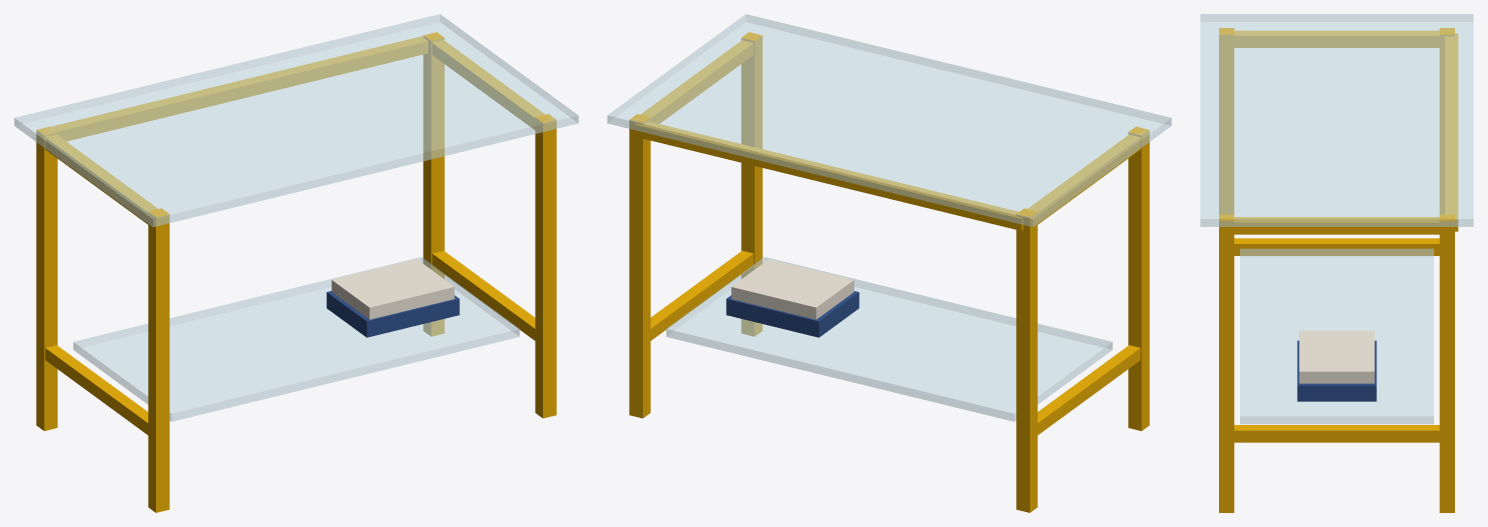
The model's file is station_buffer_basis.glb.
3 renders of one model, left to right at view 1: azimuth 30°, elevation 25°; view 2: azimuth 150°, elevation 25°; view 3: azimuth 270°, elevation 25°, orthographic.
Visible parts, largest first — view 1: station_buffer_basis; view 2: station_buffer_basis; view 3: station_buffer_basis.
Boxes of the visible parts, x1,y1,x2,y2 form: station_buffer_basis: (14, 14, 578, 512); station_buffer_basis: (607, 14, 1171, 512); station_buffer_basis: (1200, 14, 1473, 512).
Size of the model in its own units: 1.1 by 0.75 by 0.62.
